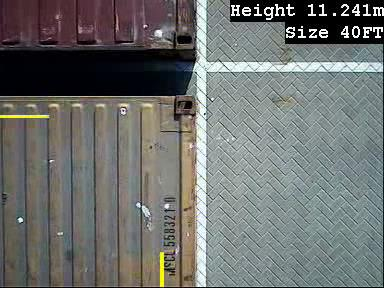groundmarker_2: (197, 144, 246, 223)
